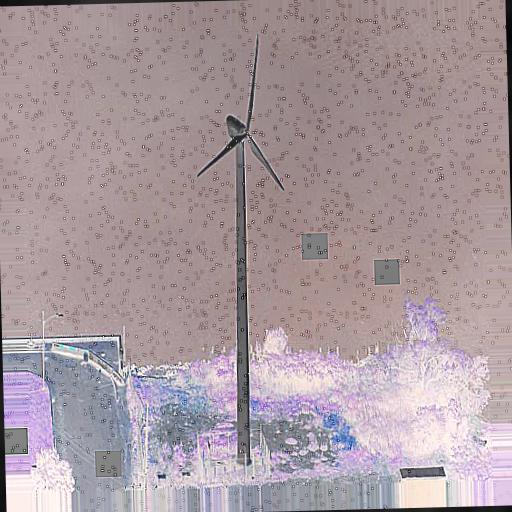wind turbine: (198, 31, 286, 468)
